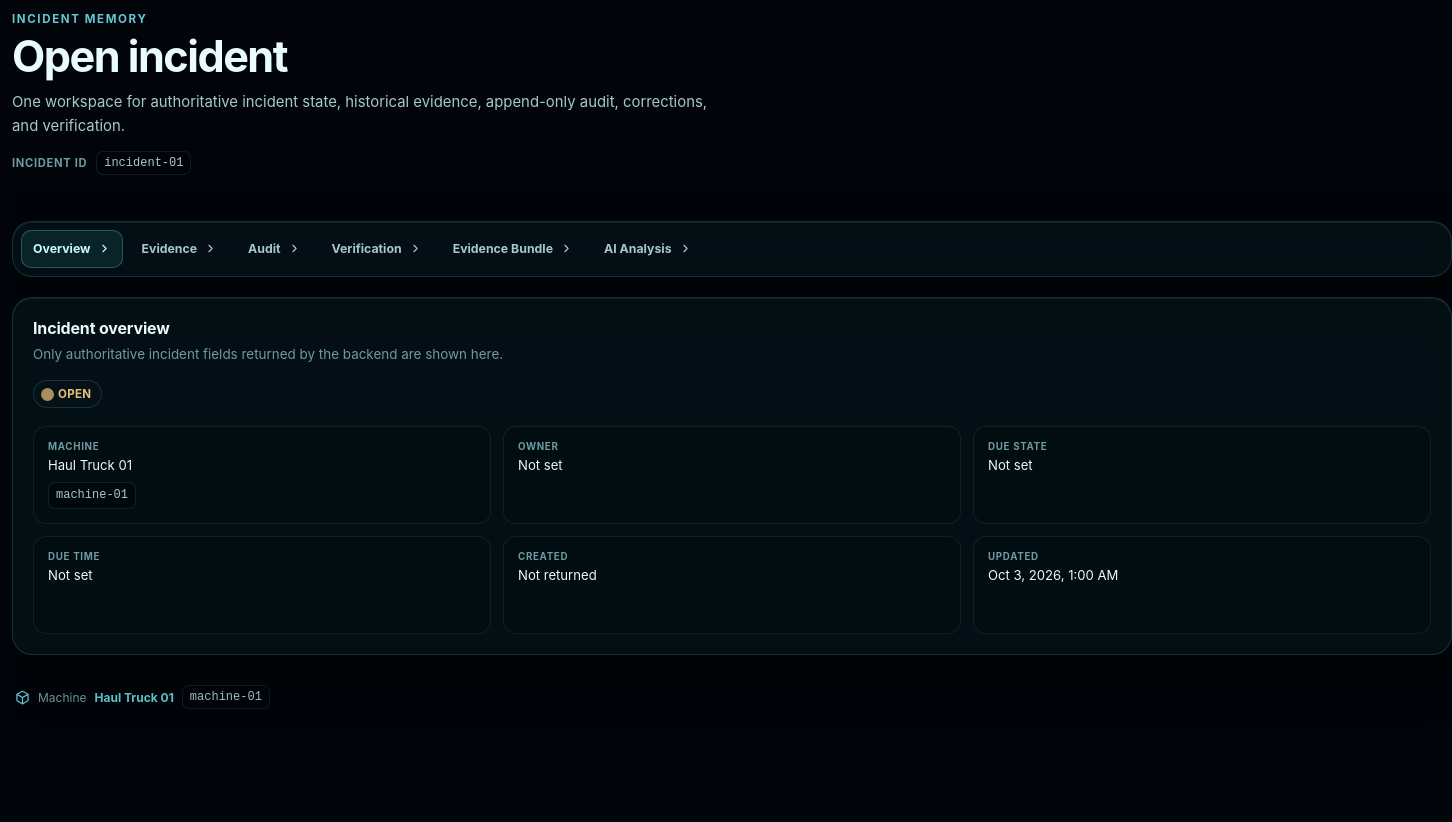
Test: IncidentDetailPage › renders backend audit actions with the generic audit component
Click the button "Audit".
click(274, 249)  # box [236,230,313,268]
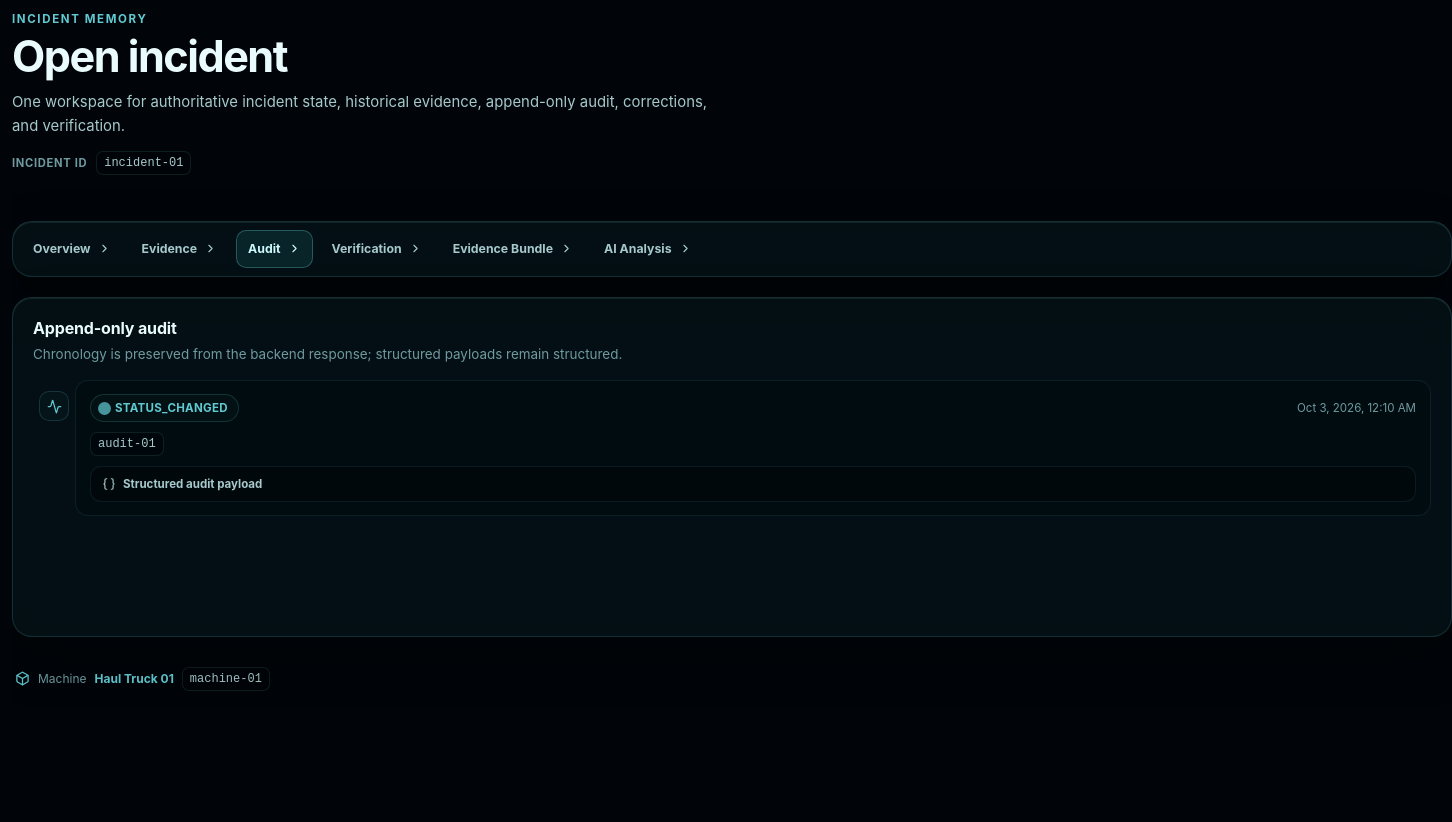
Check: the text "STATUS_CHANGED" is shown, box [90,394,239,422]
Check: the heading "Structured audit payload" is shown, box [102,477,262,491]
